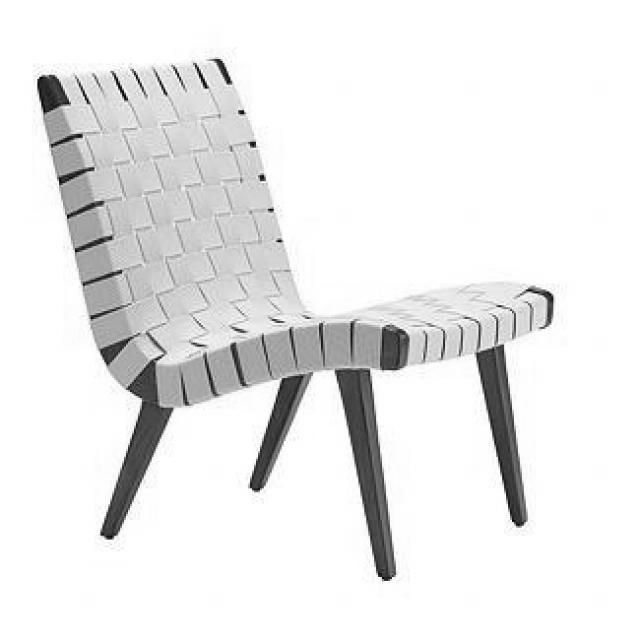chair: (37, 56, 557, 580)
